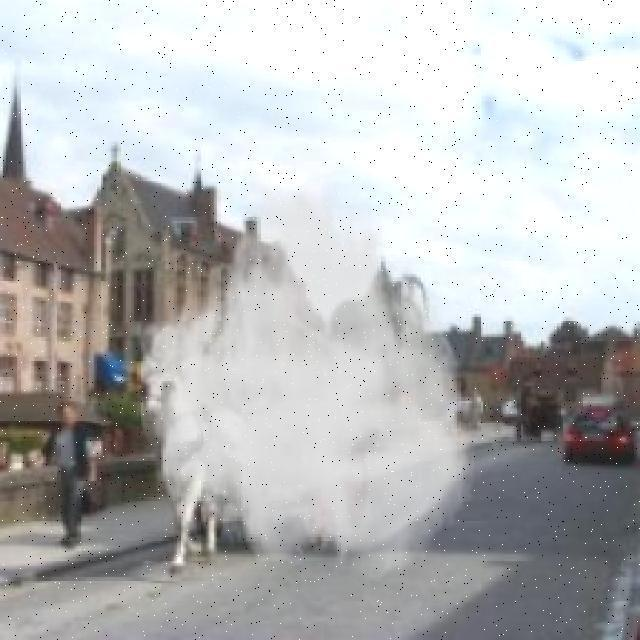smoke: (165, 196, 473, 562)
